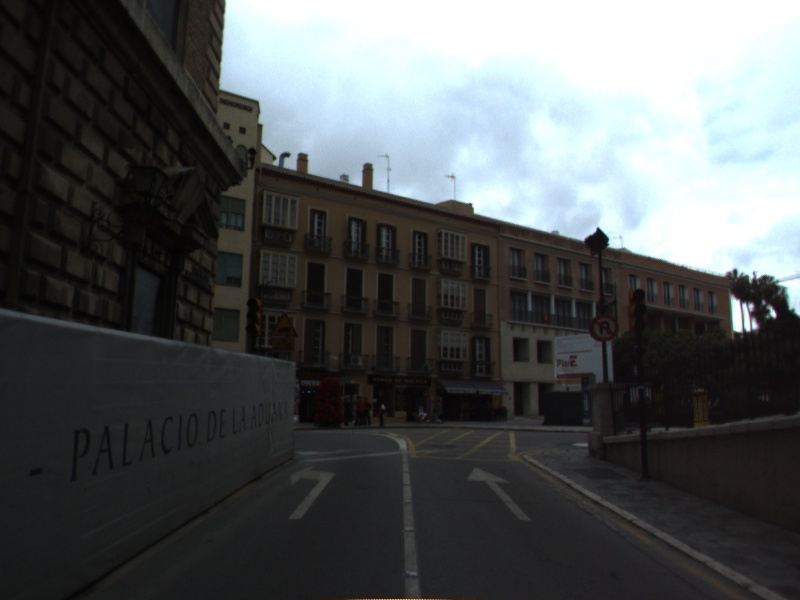LEFT: (286, 463, 338, 521)
STRAIGHT: (464, 464, 534, 523)
